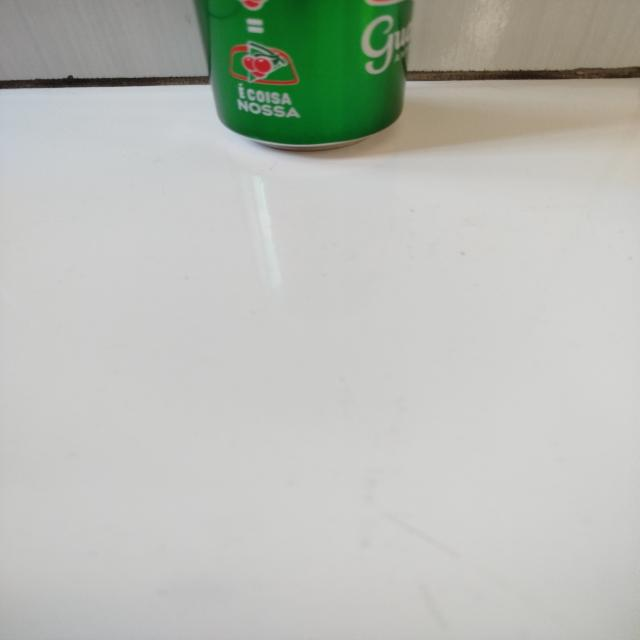Guarana: (192, 2, 414, 150)
